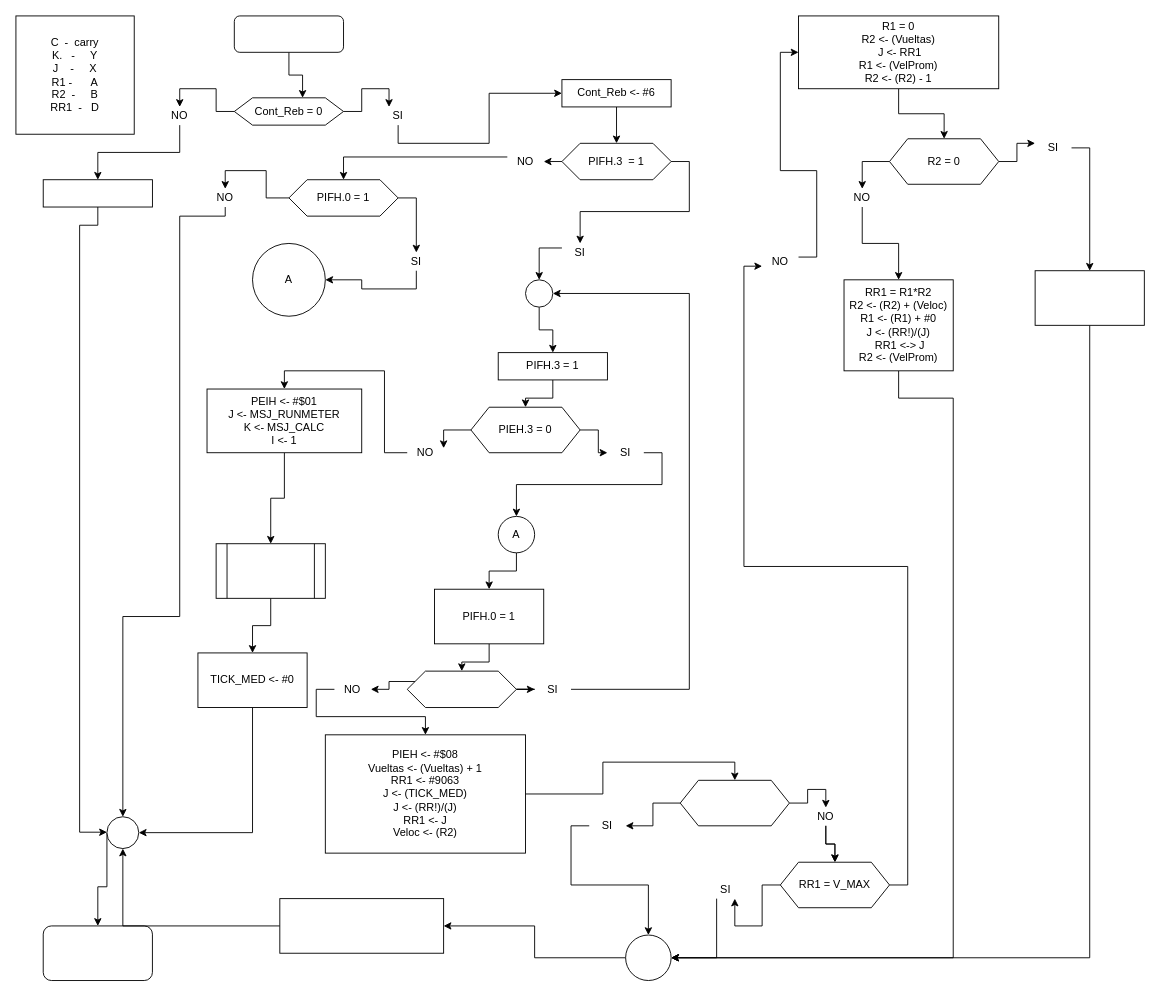
This 1160x996 diagram has some shape labels left out. The shapes that lost their labels are listed below. From the top down, each one's centre as x and y in pixels, then its label:
the point at 288,33: CALCULAR
the point at 97,193: PIFH <- %00001001
the point at 1089,297: VelProm <- Veloc
the point at 270,570: CARGAR_LCD
the point at 461,689: PIEH.0 = 0
the point at 734,802: RR1 = V_MIN
the point at 361,925: Vueltas <- (Vueltas) - 1 Veloc <- #1
the point at 97,953: RETURN
